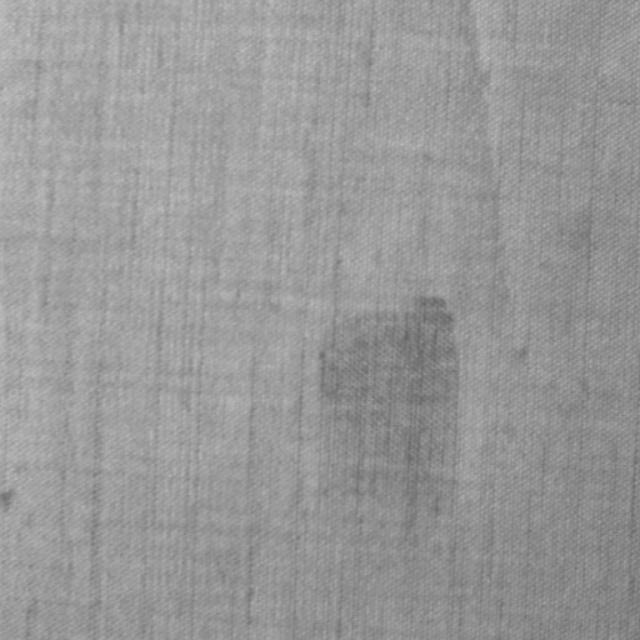oil spot: (314, 290, 464, 558)
